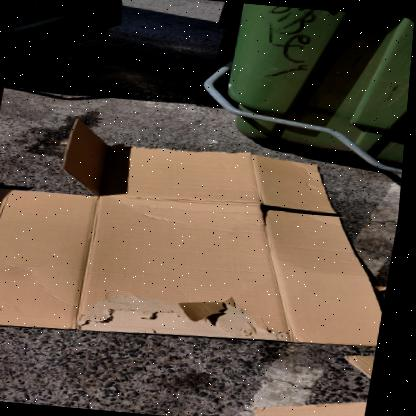Paper: (0, 117, 387, 346), (259, 400, 374, 416)
